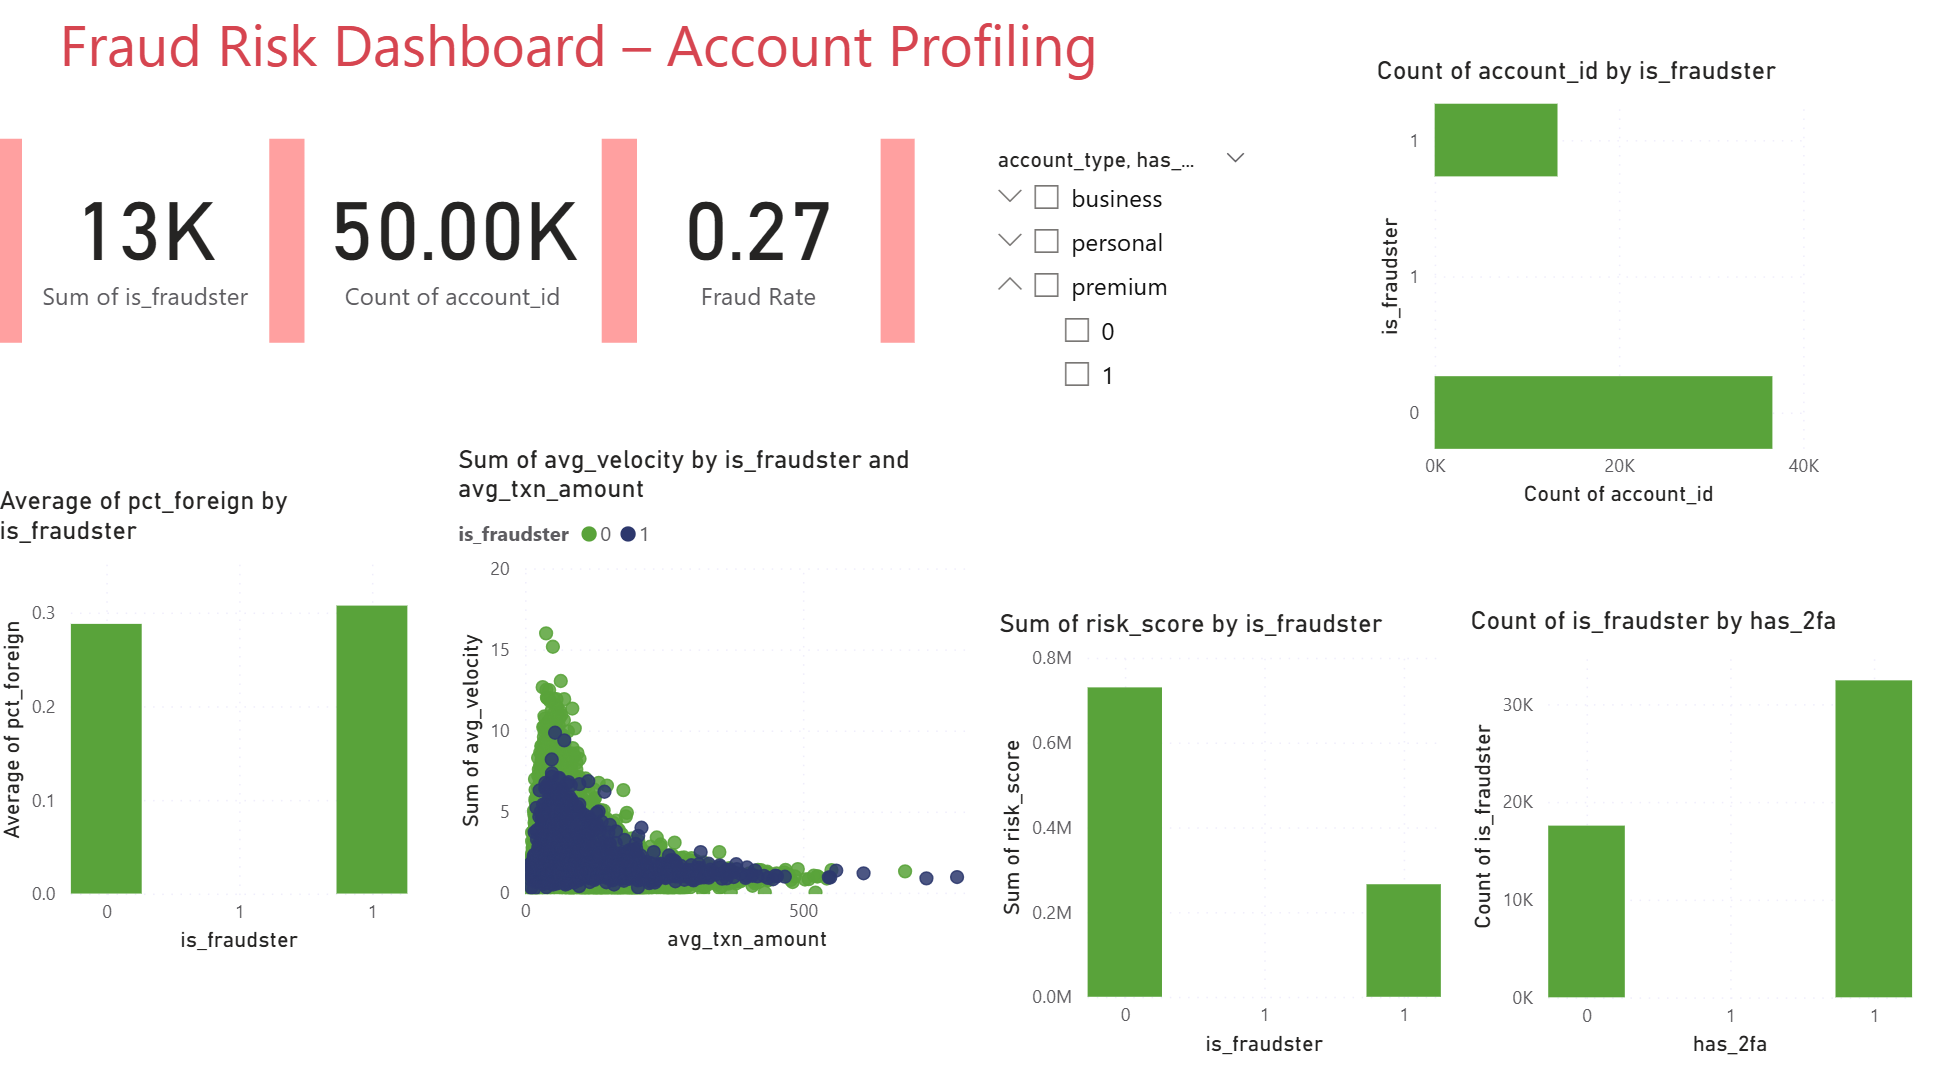

Layout of this report page (visuals, bound fields, positions):
{"tool":"powerbi","page":{"name":"Page 1","canvas":[1280,720],"ordinal":0},"visuals":[{"type":"shape","box":[0,101,606,134],"z":0},{"type":"card","fields":{"Values":["Count(account_profiles.account_id)"]},"box":[205,84,195,164],"z":1000},{"type":"barChart","fields":{"Category":["account_profiles.is_fraudster"],"Y":["CountNonNull(account_profiles.account_id)"]},"box":[905,46,300,301],"z":2000},{"type":"card","fields":{"Values":["account_profiles.Fraud Rate"]},"box":[424,84,160,164],"z":3000},{"type":"clusteredColumnChart","fields":{"Category":["account_profiles.has_2fa"],"Y":["CountNonNull(account_profiles.is_fraudster)"]},"box":[966,407,300,301],"z":4000},{"type":"slicer","fields":{"Values":["account_profiles.account_type","account_profiles.has_2fa"]},"box":[648,101,188,211],"z":5000},{"type":"columnChart","fields":{"Y":["Sum(account_profiles.risk_score)"],"Category":["account_profiles.is_fraudster"]},"box":[657,409,300,299],"z":6000},{"type":"card","fields":{"Values":["Sum(account_profiles.is_fraudster)"]},"box":[20,84,162,164],"z":7000},{"type":"columnChart","fields":{"Category":["account_profiles.is_fraudster"],"Y":["Avg(account_profiles.pct_foreign)"]},"box":[0,328,278,311],"z":8000},{"type":"scatterChart","fields":{"X":["account_profiles.avg_txn_amount"],"Y":["Sum(account_profiles.avg_velocity)"],"Series":["account_profiles.is_fraudster"]},"box":[301,301,356,338],"z":9000},{"type":"textbox","box":[39,8,770,61],"z":10000}]}

Visuals, with their boxes in screenshot pixels (x1, y1, x2, y2), scaled from the page's 1280x720 canvas onto the 1936x1075 screenshot:
shape: [left=0, top=151, right=917, bottom=351]
card - Count(account_profiles.account_id): [left=310, top=125, right=605, bottom=370]
barChart - account_profiles.is_fraudster x CountNonNull(account_profiles.account_id): [left=1369, top=69, right=1823, bottom=518]
card - account_profiles.Fraud Rate: [left=641, top=125, right=883, bottom=370]
clusteredColumnChart - account_profiles.has_2fa x CountNonNull(account_profiles.is_fraudster): [left=1461, top=608, right=1915, bottom=1057]
slicer - account_profiles.account_type x account_profiles.has_2fa: [left=980, top=151, right=1264, bottom=466]
columnChart - Sum(account_profiles.risk_score) x account_profiles.is_fraudster: [left=994, top=611, right=1447, bottom=1057]
card - Sum(account_profiles.is_fraudster): [left=30, top=125, right=275, bottom=370]
columnChart - account_profiles.is_fraudster x Avg(account_profiles.pct_foreign): [left=0, top=490, right=420, bottom=954]
scatterChart - account_profiles.avg_txn_amount x Sum(account_profiles.avg_velocity): [left=455, top=449, right=994, bottom=954]
textbox: [left=59, top=12, right=1224, bottom=103]
